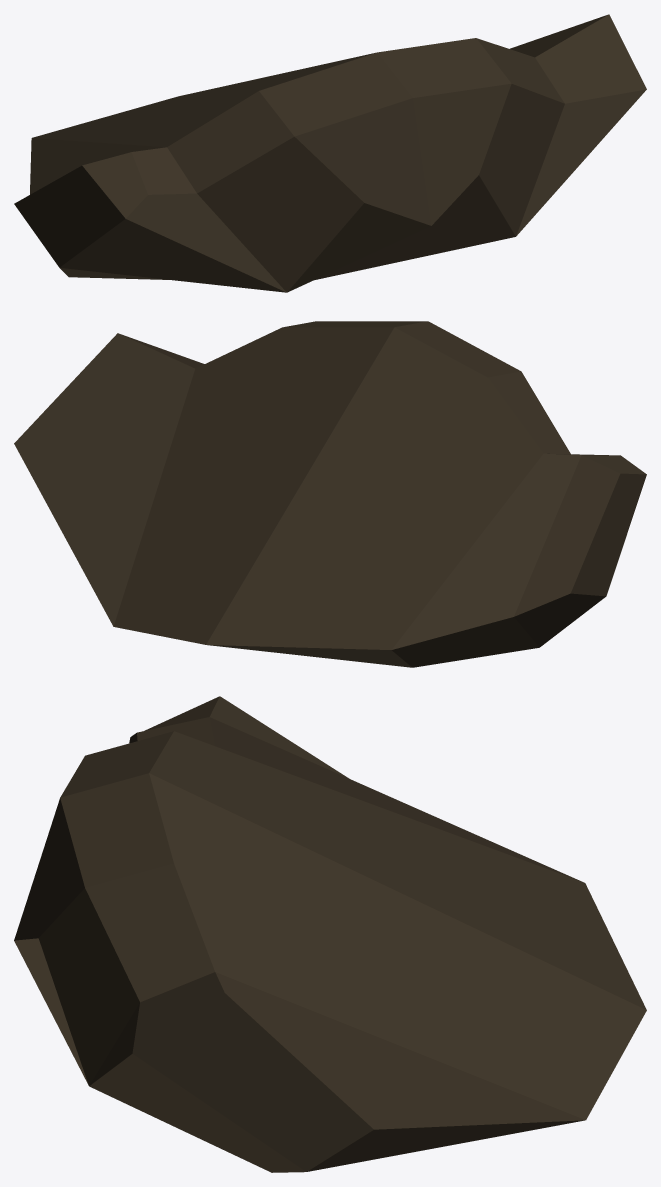
Rendered from SM_Chr_Attach_Beard_09_Goatee.fbx.
3 views of the same model, one above another, from view 1: azimuth 30°, elevation 25°; view 2: azimuth 150°, elevation 25°; view 3: azimuth 270°, elevation 25° (orthographic). The views are drawn at different scales.
Parts seen in each view (by area): view 1: SM_Chr_Attach_Beard_09_Goatee; view 2: SM_Chr_Attach_Beard_09_Goatee; view 3: SM_Chr_Attach_Beard_09_Goatee.
Part boxes in pixels (x1=…): SM_Chr_Attach_Beard_09_Goatee: x1=14, y1=14, x2=646, y2=292; SM_Chr_Attach_Beard_09_Goatee: x1=14, y1=321, x2=646, y2=667; SM_Chr_Attach_Beard_09_Goatee: x1=14, y1=696, x2=646, y2=1172.
Size of the model in its own units: 11.8 by 5.55 by 8.83.
